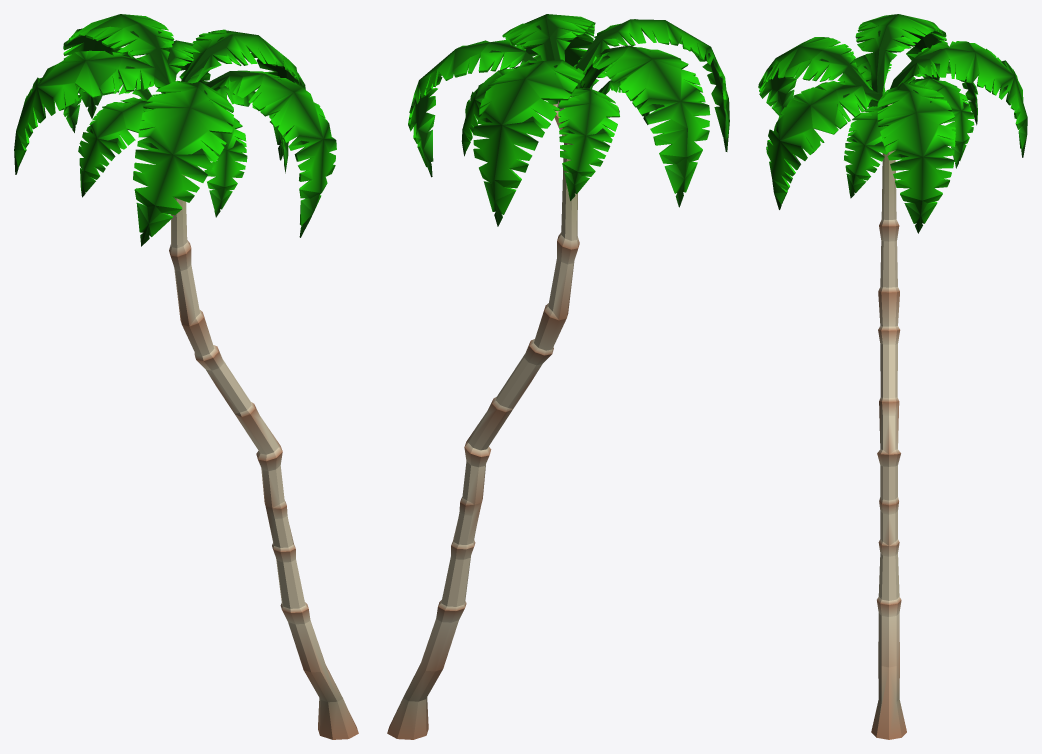
The model's file is palm3.fbx.
3 renders of one model, left to right at view 1: azimuth 30°, elevation 25°; view 2: azimuth 150°, elevation 25°; view 3: azimuth 270°, elevation 25°, orthographic. The views are drawn at different scales.
Parts seen in each view (by area): view 1: palm3_LOD0; view 2: palm3_LOD0; view 3: palm3_LOD0.
Boxes of the visible parts, x1=… form: palm3_LOD0: x1=14, y1=14, x2=358, y2=739; palm3_LOD0: x1=387, y1=14, x2=729, y2=739; palm3_LOD0: x1=758, y1=14, x2=1027, y2=739.
Size of what is drawn, in the model's own units: 6.17 by 13.37 by 5.29.
